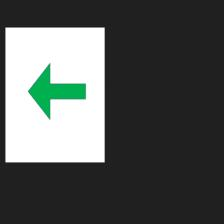left: (25, 59, 91, 122)
